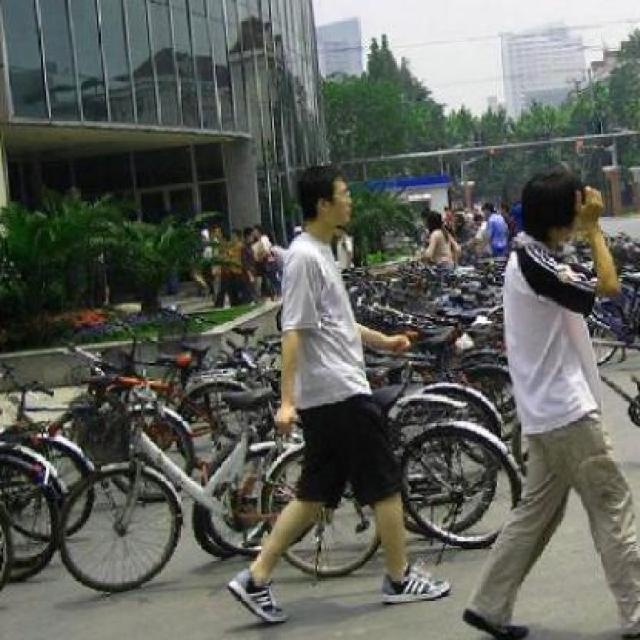obstacle: (222, 165, 448, 620), (464, 167, 638, 639)
